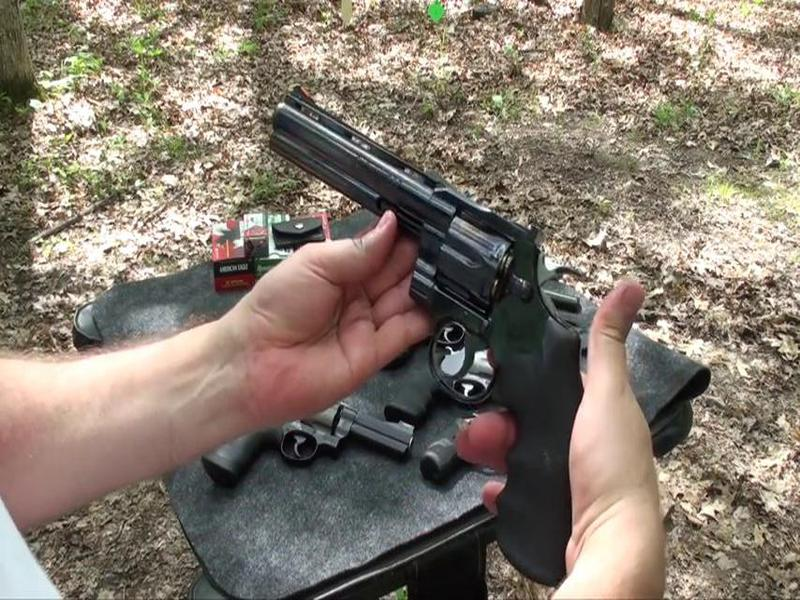Revolver: (231, 87, 591, 560)
